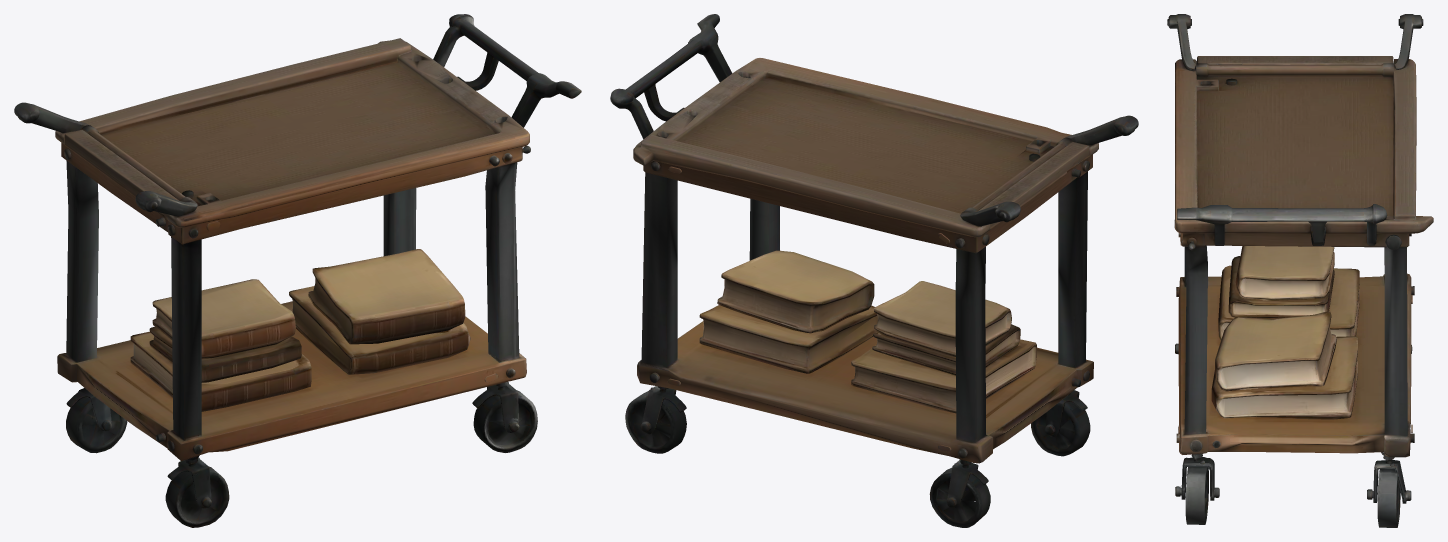
The model's file is library_cart.glb.
3 views of the same model, side by side, from view 1: azimuth 30°, elevation 25°; view 2: azimuth 150°, elevation 25°; view 3: azimuth 270°, elevation 25° (orthographic). The views are drawn at different scales.
Parts seen in each view (by area): view 1: tripo_94ea0f32_e87e_447f_8c00_66cace3bcebb; view 2: tripo_94ea0f32_e87e_447f_8c00_66cace3bcebb; view 3: tripo_94ea0f32_e87e_447f_8c00_66cace3bcebb.
Boxes of the visible parts, bbox=[...] form: tripo_94ea0f32_e87e_447f_8c00_66cace3bcebb: bbox=[14, 14, 581, 527]; tripo_94ea0f32_e87e_447f_8c00_66cace3bcebb: bbox=[610, 14, 1138, 527]; tripo_94ea0f32_e87e_447f_8c00_66cace3bcebb: bbox=[1167, 14, 1433, 527].
Bounding box in the file's own units: 0.9995 × 0.7671 × 0.5474.
Materials: 1 (1 with a texture image).
